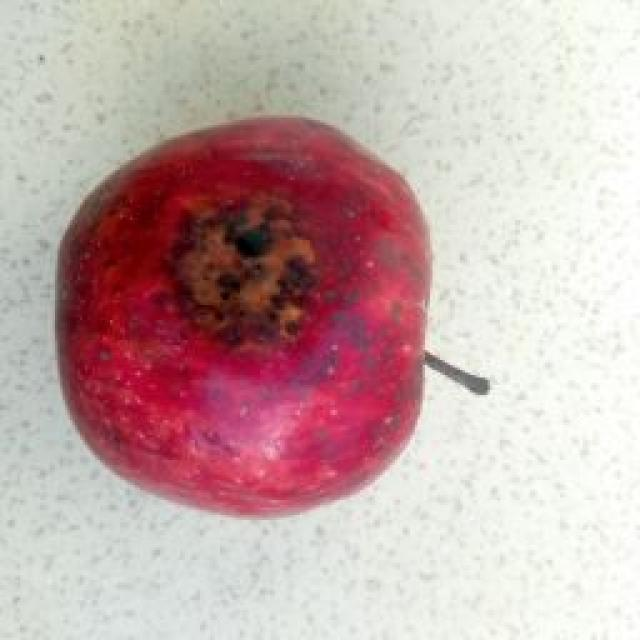Bad_Apple: (58, 118, 431, 514)
